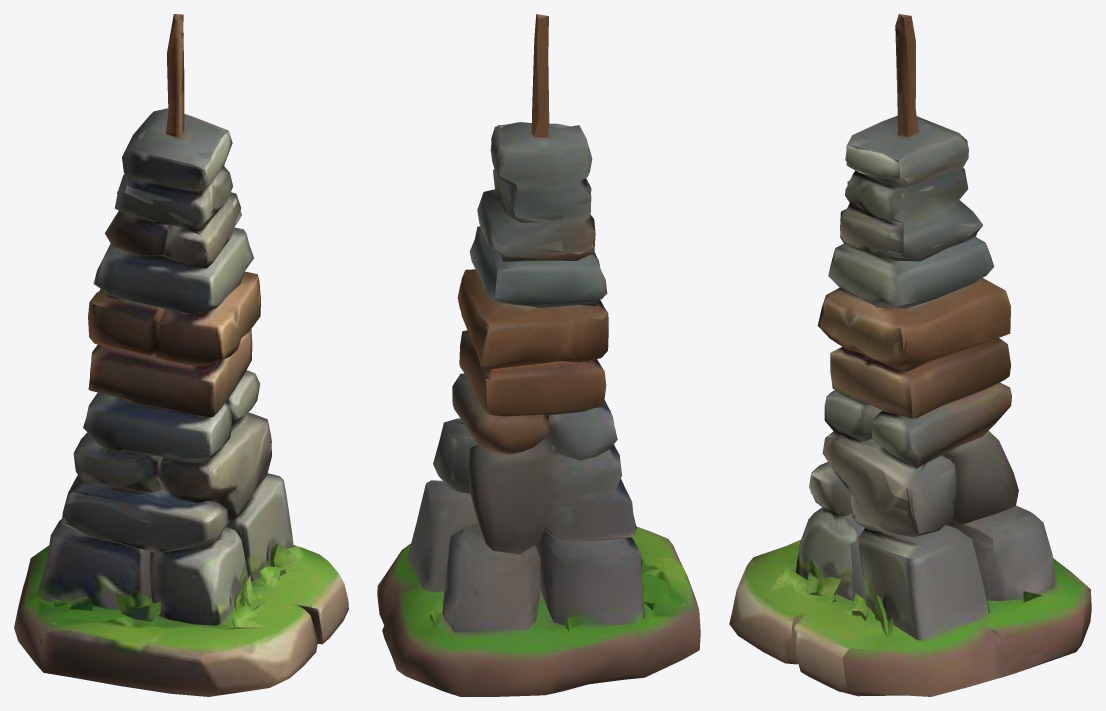
File: pathfinderCairn.glb
The picture shows the model from 3 angles, left to right: view 1: azimuth 30°, elevation 25°; view 2: azimuth 150°, elevation 25°; view 3: azimuth 270°, elevation 25°; orthographic projection.
Visible parts, largest first — view 1: level; view 2: level; view 3: level.
Part boxes in pixels (x1,y1,x2,y2): level: (14,14,348,696); level: (377,14,700,696); level: (729,14,1091,696).
Size of the model in its own units: 0.4323 by 0.8441 by 0.4515.
1 material, 1 textured.
